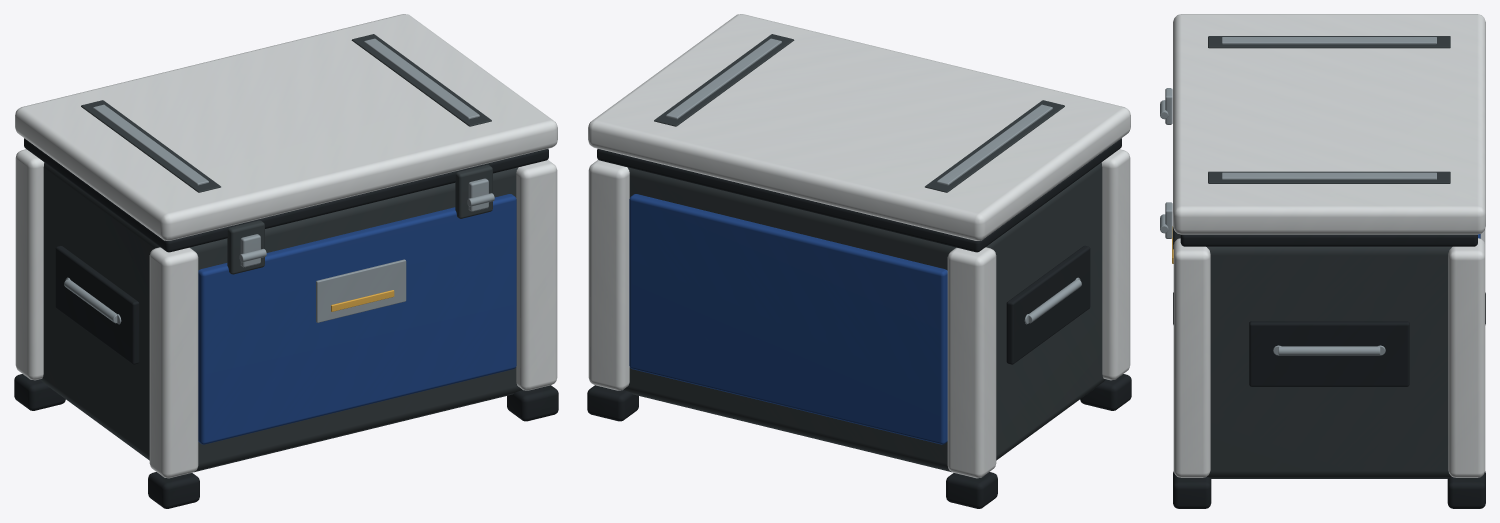
File: 16_cargo_crate.gltf
The picture shows the model from 3 angles, left to right: view 1: azimuth 30°, elevation 25°; view 2: azimuth 150°, elevation 25°; view 3: azimuth 270°, elevation 25°; orthographic projection. The views are drawn at different scales.
Visible parts, largest first — view 1: 16_Cryo_Ceramic_Enamel, 16_Cryo_Cobalt_Enamel, 16_Cryo_Anodized_Frame, 16_Cryo_EPDM_Gasket, 16_Cryo_Brushed_Steel; view 2: 16_Cryo_Ceramic_Enamel, 16_Cryo_Cobalt_Enamel, 16_Cryo_Anodized_Frame, 16_Cryo_EPDM_Gasket, 16_Cryo_Brushed_Steel; view 3: 16_Cryo_Ceramic_Enamel, 16_Cryo_Anodized_Frame, 16_Cryo_EPDM_Gasket, 16_Cryo_Brushed_Steel.
Part boxes in pixels (<box>): 16_Cryo_Ceramic_Enamel: <box>15,14,557,478</box>; 16_Cryo_Cobalt_Enamel: <box>198,194,516,444</box>; 16_Cryo_Anodized_Frame: <box>40,34,522,472</box>; 16_Cryo_EPDM_Gasket: <box>14,138,558,508</box>; 16_Cryo_Brushed_Steel: <box>64,38,494,324</box>; 16_Cryo_Ceramic_Enamel: <box>588,14,1130,478</box>; 16_Cryo_Cobalt_Enamel: <box>629,194,947,444</box>; 16_Cryo_Anodized_Frame: <box>623,34,1105,472</box>; 16_Cryo_EPDM_Gasket: <box>587,138,1131,508</box>; 16_Cryo_Brushed_Steel: <box>666,38,1081,324</box>; 16_Cryo_Ceramic_Enamel: <box>1173,14,1485,477</box>; 16_Cryo_Anodized_Frame: <box>1173,36,1452,478</box>; 16_Cryo_EPDM_Gasket: <box>1173,234,1485,508</box>; 16_Cryo_Brushed_Steel: <box>1160,37,1436,355</box>.
Bounding box in the file's own units: 1.2 × 0.8585 × 0.833.
6 materials, 5 textured.
